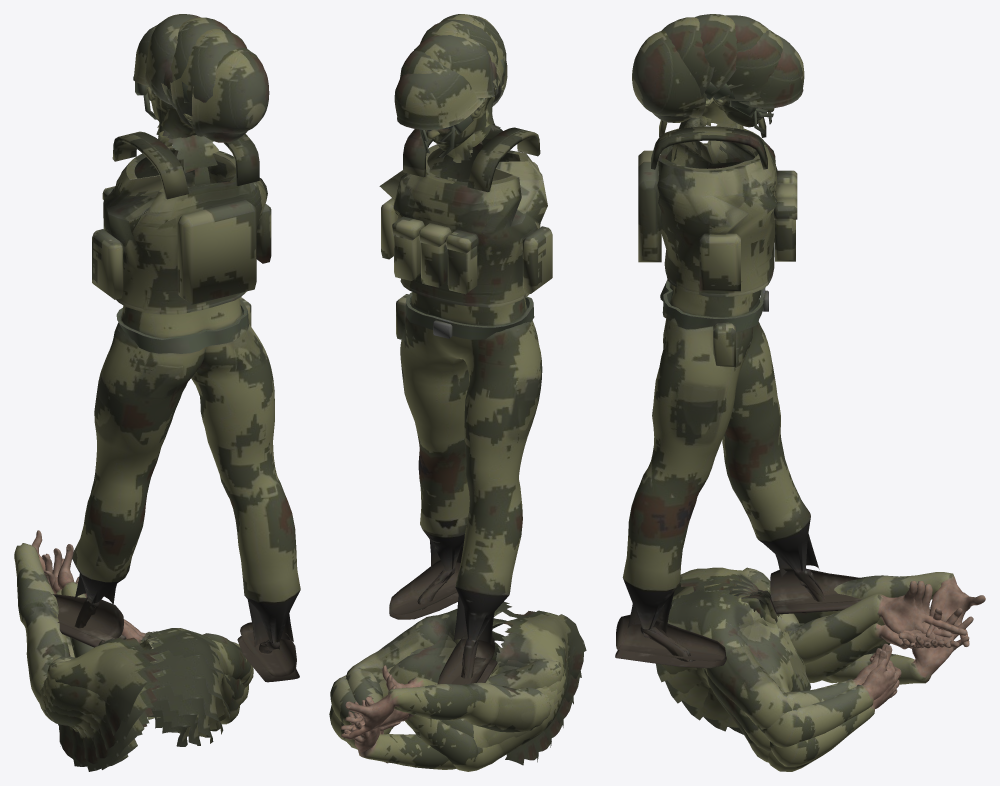
File: crew_iglas.glb
3 renders of one model, left to right at view 1: azimuth 30°, elevation 25°; view 2: azimuth 150°, elevation 25°; view 3: azimuth 270°, elevation 25°, orthographic. The views are drawn at different scales.
Visible parts, largest first — view 1: turret|STR_ratnik, ca5|STR_ratnik, ca0|STR_ratnik, th5|STR_ratnik, ca4|STR_ratnik, ca3|STR_ratnik, th4|STR_ratnik, ca2|STR_ratnik, th0|STR_ratnik, th2|STR_ratnik, ca1|STR_ratnik, th3|STR_ratnik; view 2: turret|STR_ratnik, ca5|STR_ratnik, ca0|STR_ratnik, th0|STR_ratnik, ca2|STR_ratnik, ca1|STR_ratnik, th2|STR_ratnik, th3|STR_ratnik, ca3|STR_ratnik, th4|STR_ratnik, ca4|STR_ratnik, th1|STR_ratnik (+1 smaller); view 3: turret|STR_ratnik, ca5|STR_ratnik, ca0|STR_ratnik, ca2|STR_ratnik, ca4|STR_ratnik, th5|STR_ratnik, ca1|STR_ratnik, th0|STR_ratnik, th1|STR_ratnik, th4|STR_ratnik, th3|STR_ratnik, ca3|STR_ratnik (+1 smaller).
Part boxes in pixels (x1,y1,x2,y2): turret|STR_ratnik: (51,131,300,682); ca5|STR_ratnik: (47,544,252,742); ca0|STR_ratnik: (14,530,248,766); th5|STR_ratnik: (156,47,269,170); ca4|STR_ratnik: (44,570,244,749); ca3|STR_ratnik: (43,548,239,760); th4|STR_ratnik: (158,28,247,171); ca2|STR_ratnik: (38,554,253,769); th0|STR_ratnik: (133,25,218,173); th2|STR_ratnik: (145,14,218,172); ca1|STR_ratnik: (46,553,239,771); th3|STR_ratnik: (158,17,230,172); turret|STR_ratnik: (379,127,552,684); ca5|STR_ratnik: (346,601,586,763); ca0|STR_ratnik: (329,650,551,765); th0|STR_ratnik: (394,68,502,157); ca2|STR_ratnik: (330,642,563,771); ca1|STR_ratnik: (343,647,551,769); th2|STR_ratnik: (414,35,501,160); th3|STR_ratnik: (420,19,501,162); ca3|STR_ratnik: (354,631,573,738); th4|STR_ratnik: (440,14,506,162); ca4|STR_ratnik: (345,618,581,731); th1|STR_ratnik: (400,50,502,162); turret|STR_ratnik: (615,117,863,668); ca5|STR_ratnik: (661,567,951,729); ca0|STR_ratnik: (729,572,985,766); ca2|STR_ratnik: (681,584,967,747); ca4|STR_ratnik: (656,578,952,751); th5|STR_ratnik: (632,30,743,129); ca1|STR_ratnik: (704,590,973,771); th0|STR_ratnik: (680,35,804,133); th1|STR_ratnik: (679,29,782,128); th4|STR_ratnik: (662,17,742,129); th3|STR_ratnik: (686,14,739,128); ca3|STR_ratnik: (665,581,958,762).
Size of the model in its own units: 0.6647 by 2.13 by 0.9883.
13 materials, 13 textured.
